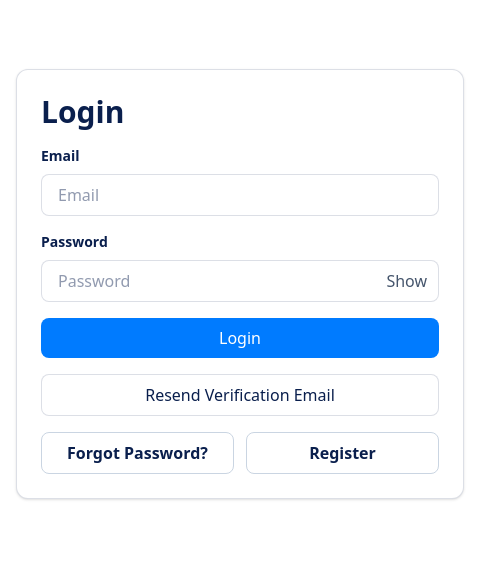
Test: LoginPage › shows an invalid-credentials error
This screenshot has width=481, height=570.
Type "sean@example.com" into the field labelled "Email" at (240, 195), box [41,174,439,216]
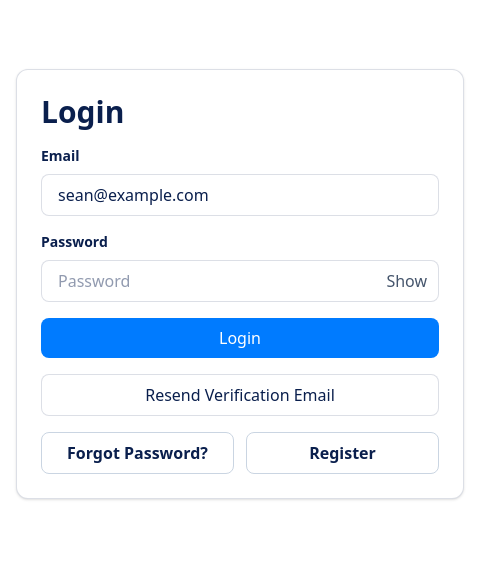
Type "BadPassword" into the password field with placeholder "Password" at (240, 281), box [41,260,439,302]
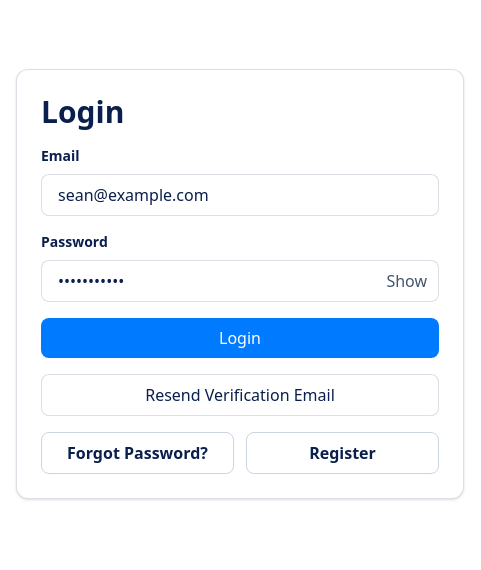
Click the button "Login" at (240, 338), box [41,318,439,358]
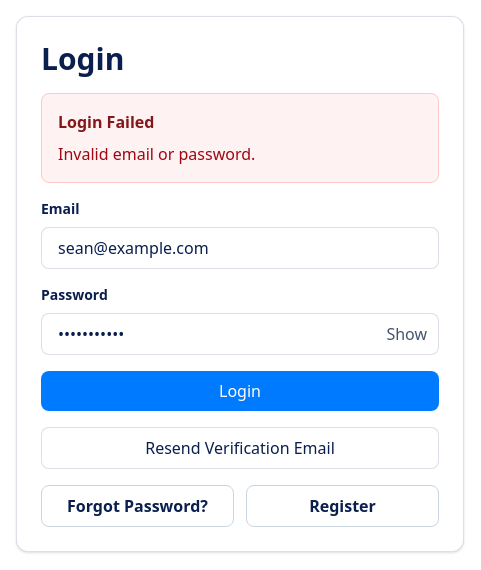
Now the text "Invalid email or password." is shown, box [58,143,255,165]
